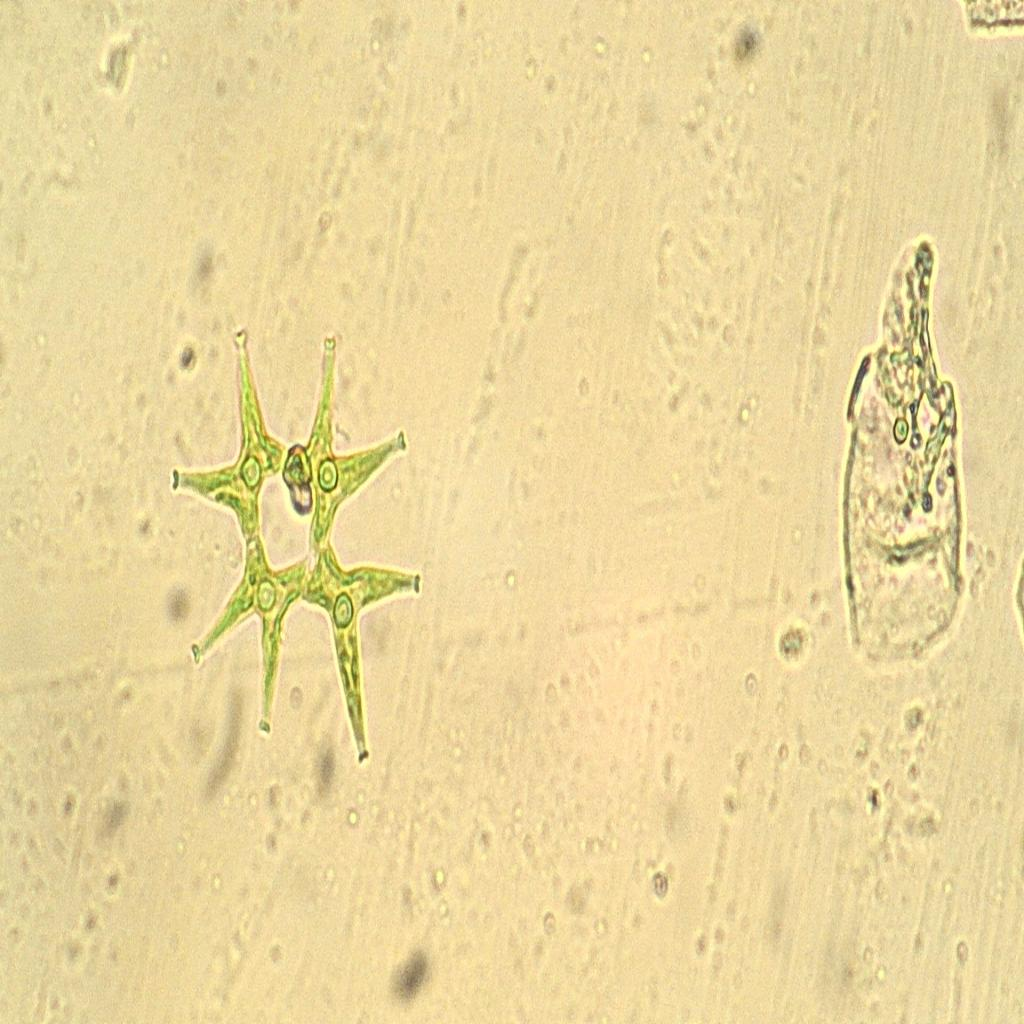Pediastrum_CT: (168, 317, 441, 796)
